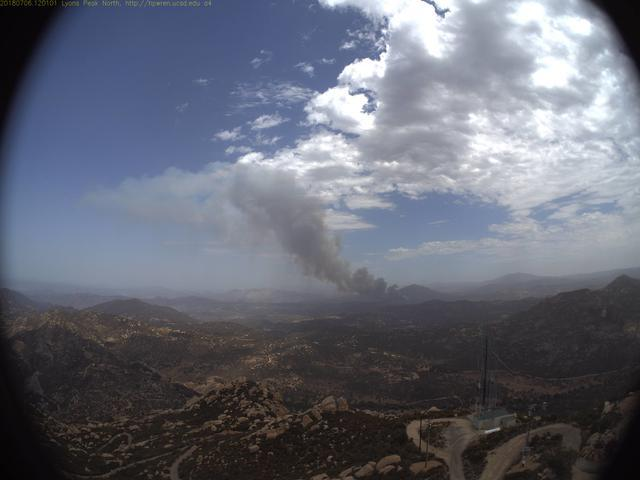smoke: (154, 158, 432, 312)
